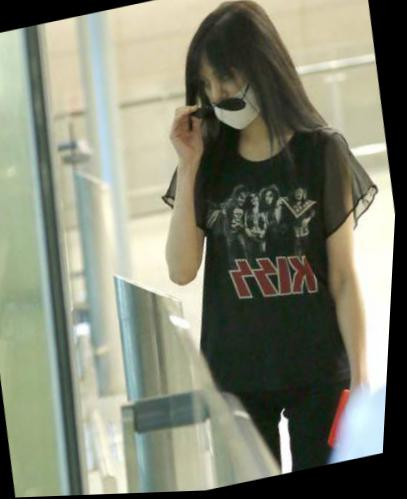WRONG: (200, 55, 277, 136)
